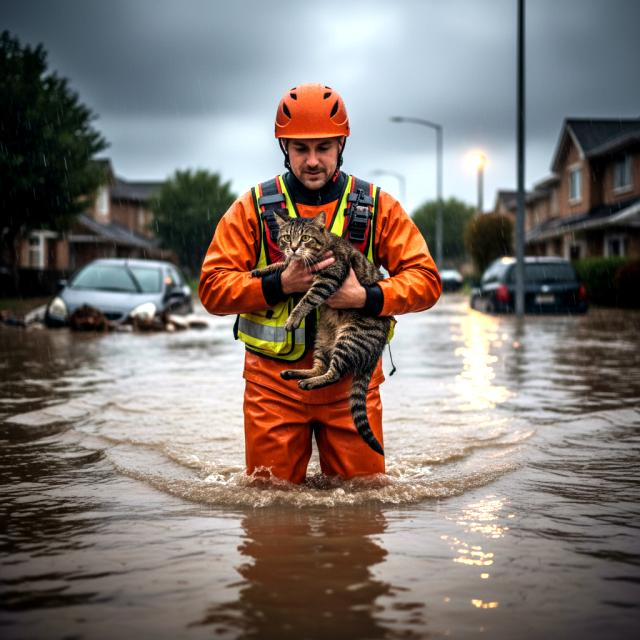cat: (256, 209, 398, 462)
rescuer: (196, 75, 448, 501)
